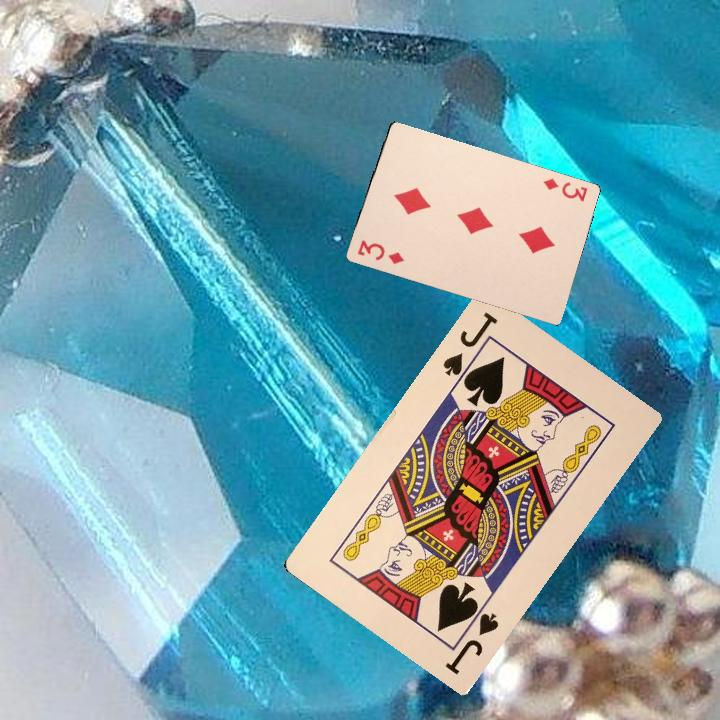3d: (353, 236, 407, 267), (539, 174, 590, 204)
Js: (438, 307, 501, 384), (441, 598, 502, 677)
